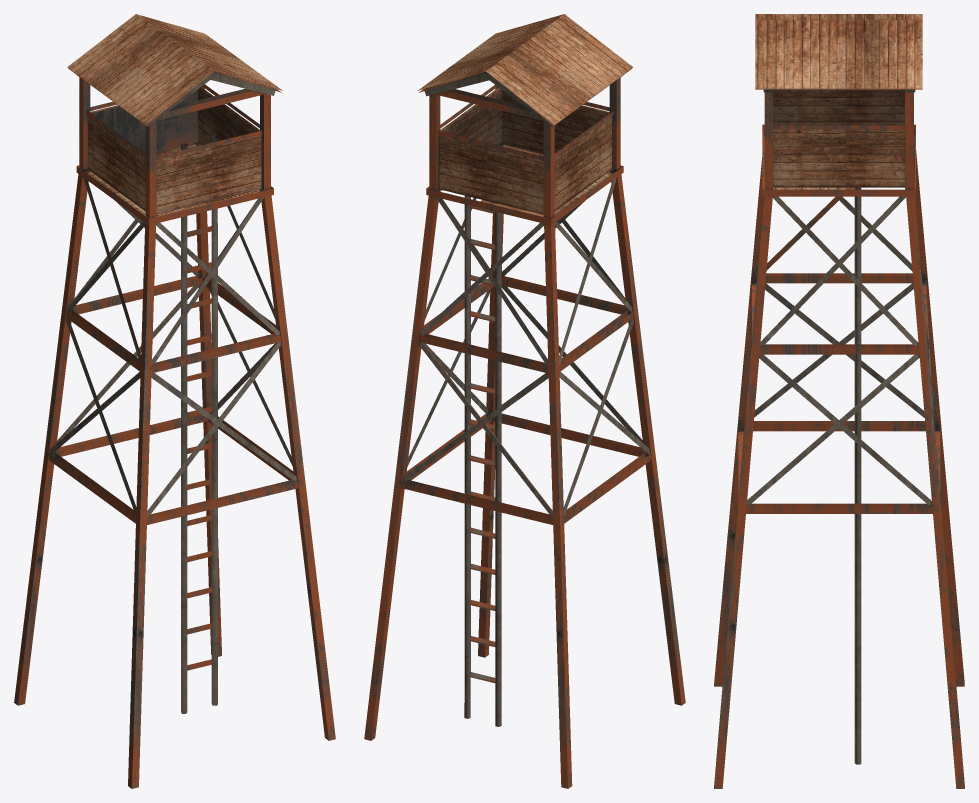
Rendered from wooden_watchtower.glb.
The picture shows the model from 3 angles, left to right: view 1: azimuth 30°, elevation 25°; view 2: azimuth 150°, elevation 25°; view 3: azimuth 270°, elevation 25°; orthographic projection. The views are drawn at different scales.
Parts seen in each view (by area): view 1: watchtower_watchtower_0; view 2: watchtower_watchtower_0; view 3: watchtower_watchtower_0.
Boxes of the visible parts, x1,y1,x2,y2 form: watchtower_watchtower_0: [14, 14, 335, 788]; watchtower_watchtower_0: [364, 14, 685, 788]; watchtower_watchtower_0: [714, 14, 964, 788].
Size of the model in its own units: 63.74 by 203 by 63.72.
1 material, 1 textured.
